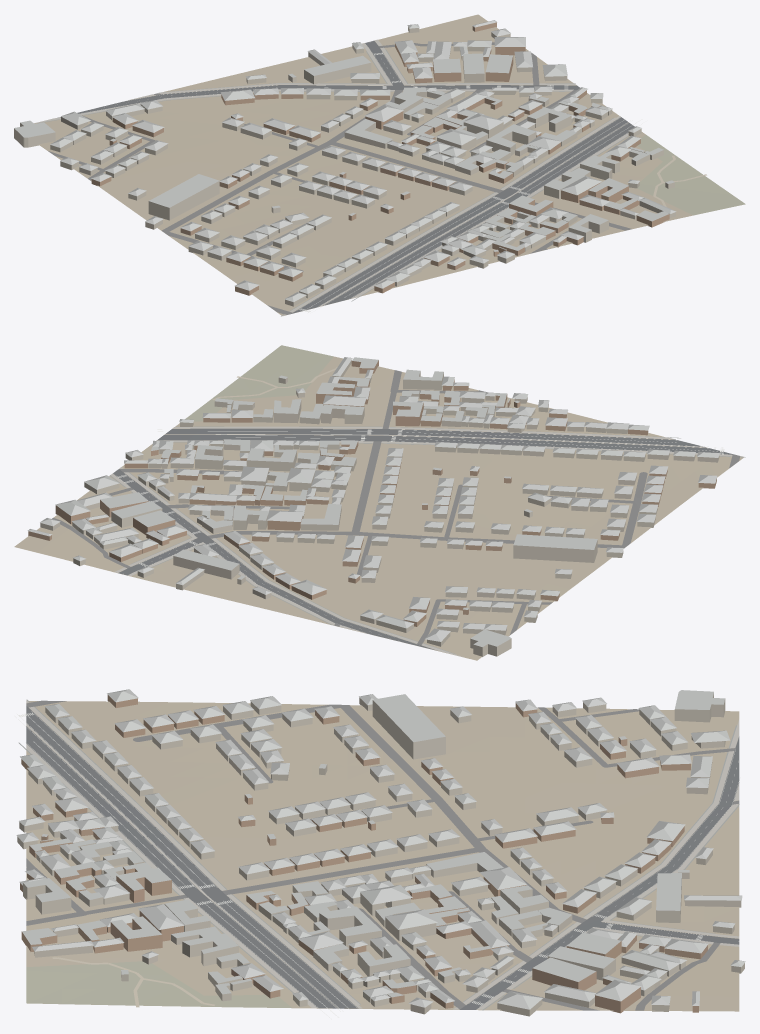
File: bolak_2_3.glb
3 views of the same model, one above another, from view 1: azimuth 30°, elevation 25°; view 2: azimuth 150°, elevation 25°; view 3: azimuth 270°, elevation 25° (orthographic). The views are drawn at different scales.
Parts seen in each view (by area): view 1: Yer_Tuproq-col, Tom_Shifer, Devor_Suvoq-col, Devor_Gisht-col, Yol_Asfalt-col, Trotuar, Yol_Mahalla-col, Yer_Qabr, Ariq, Yol_Chiziq; view 2: Yer_Tuproq-col, Tom_Shifer, Devor_Suvoq-col, Yol_Asfalt-col, Devor_Gisht-col, Yol_Mahalla-col, Trotuar, Yer_Qabr, Yol_Chiziq, Ariq; view 3: Yer_Tuproq-col, Tom_Shifer, Devor_Suvoq-col, Yol_Asfalt-col, Devor_Gisht-col, Yol_Mahalla-col, Trotuar, Yer_Qabr, Yol_Chiziq, Ariq, Yol_Piyoda.
Part boxes in pixels (bbox=[...]): Yer_Tuproq-col: bbox=[34, 14, 693, 316]; Tom_Shifer: bbox=[14, 20, 676, 302]; Devor_Suvoq-col: bbox=[14, 27, 675, 306]; Devor_Gisht-col: bbox=[91, 22, 669, 295]; Yol_Asfalt-col: bbox=[58, 40, 634, 313]; Trotuar: bbox=[34, 39, 628, 315]; Yol_Mahalla-col: bbox=[48, 42, 631, 314]; Yer_Qabr: bbox=[637, 135, 745, 215]; Ariq: bbox=[38, 49, 628, 316]; Yol_Chiziq: bbox=[90, 52, 642, 312]; Yer_Tuproq-col: bbox=[14, 356, 743, 660]; Tom_Shifer: bbox=[27, 357, 719, 646]; Devor_Suvoq-col: bbox=[40, 360, 719, 656]; Yol_Asfalt-col: bbox=[113, 428, 735, 650]; Devor_Gisht-col: bbox=[28, 360, 716, 626]; Yol_Mahalla-col: bbox=[52, 370, 740, 645]; Trotuar: bbox=[110, 426, 743, 656]; Yer_Qabr: bbox=[185, 345, 333, 421]; Yol_Chiziq: bbox=[117, 429, 724, 618]; Ariq: bbox=[109, 426, 745, 654]; Yer_Tuproq-col: bbox=[26, 701, 739, 1011]; Tom_Shifer: bbox=[16, 689, 745, 1009]; Devor_Suvoq-col: bbox=[17, 693, 744, 1016]; Yol_Asfalt-col: bbox=[26, 706, 739, 1009]; Devor_Gisht-col: bbox=[20, 695, 707, 1013]; Yol_Mahalla-col: bbox=[26, 700, 739, 1010]; Trotuar: bbox=[26, 700, 739, 1009]; Yer_Qabr: bbox=[26, 961, 291, 1007]; Yol_Chiziq: bbox=[15, 711, 740, 1019]; Ariq: bbox=[18, 699, 739, 1010]; Yol_Piyoda: bbox=[52, 957, 214, 1007].
Size of what is drawn, in the model's own units: 426 by 17.16 by 411.
